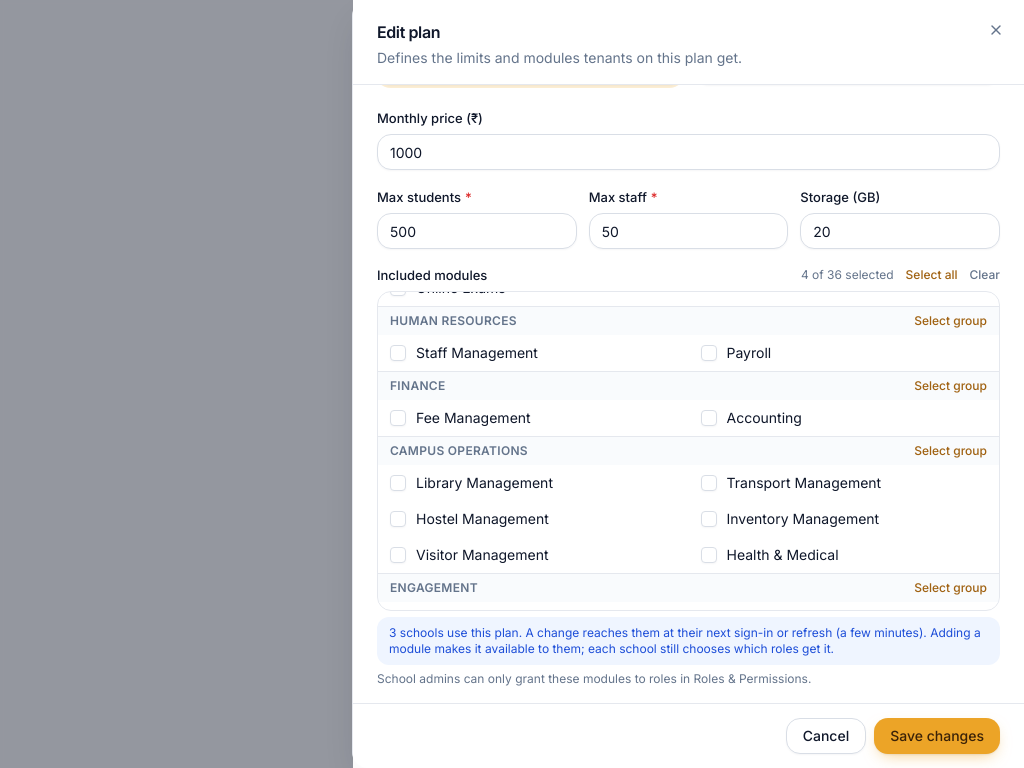
Scenario: PlanFormDialog › shows the modules under their menu groups and can switch a whole group on, then off
The width and height of the screenshot is (1024, 768).
(page scrolled)
Expected: the checkbox named "Hostel Management" next to "Hostel Management" is not checked, [390, 511, 406, 527]
Click the button "Select group" in the row of "Campus Operations": {"x": 951, "y": 451} [914, 443, 987, 459]
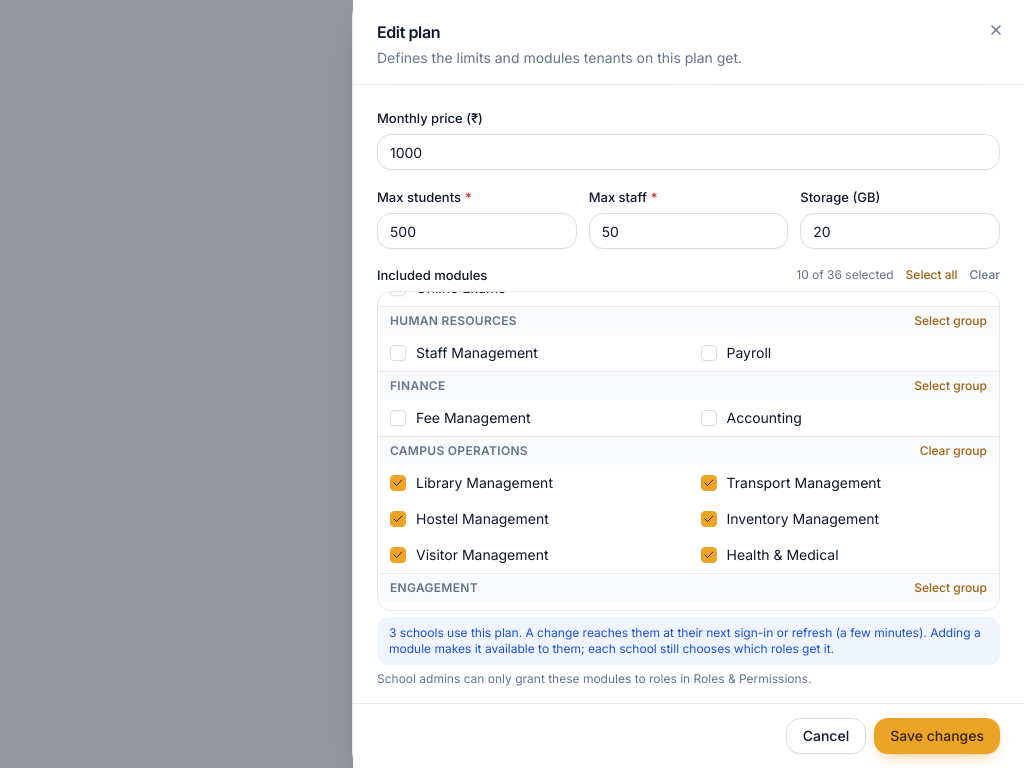
Result: the checkbox named "Library Management" next to "Library Management" is checked at [390, 475, 406, 491]
Result: the checkbox named "Transport Management" next to "Transport Management" is checked at [700, 475, 716, 491]
Result: the checkbox named "Hostel Management" next to "Hostel Management" is checked at [390, 511, 406, 527]
Click the button "Clear group": {"x": 953, "y": 451} [920, 443, 987, 459]
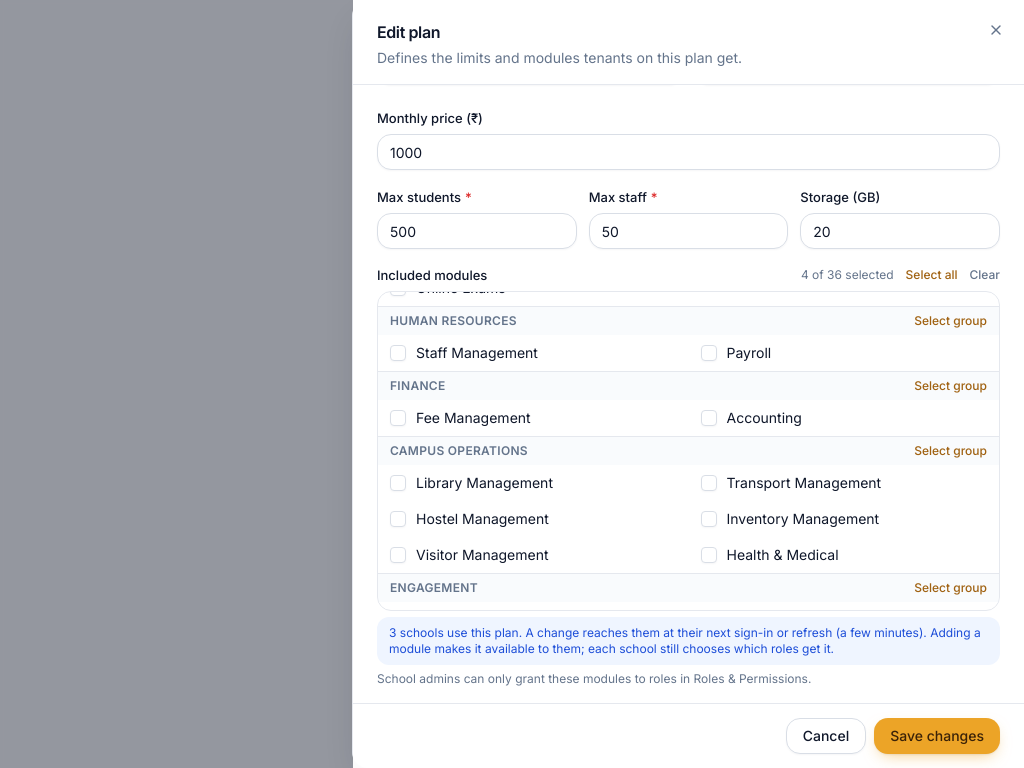
Result: the checkbox named "Hostel Management" next to "Hostel Management" is not checked at [390, 511, 406, 527]
